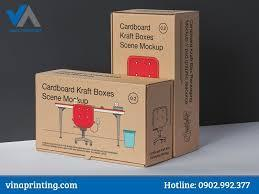box: (35, 68, 174, 167), (112, 8, 201, 158)
